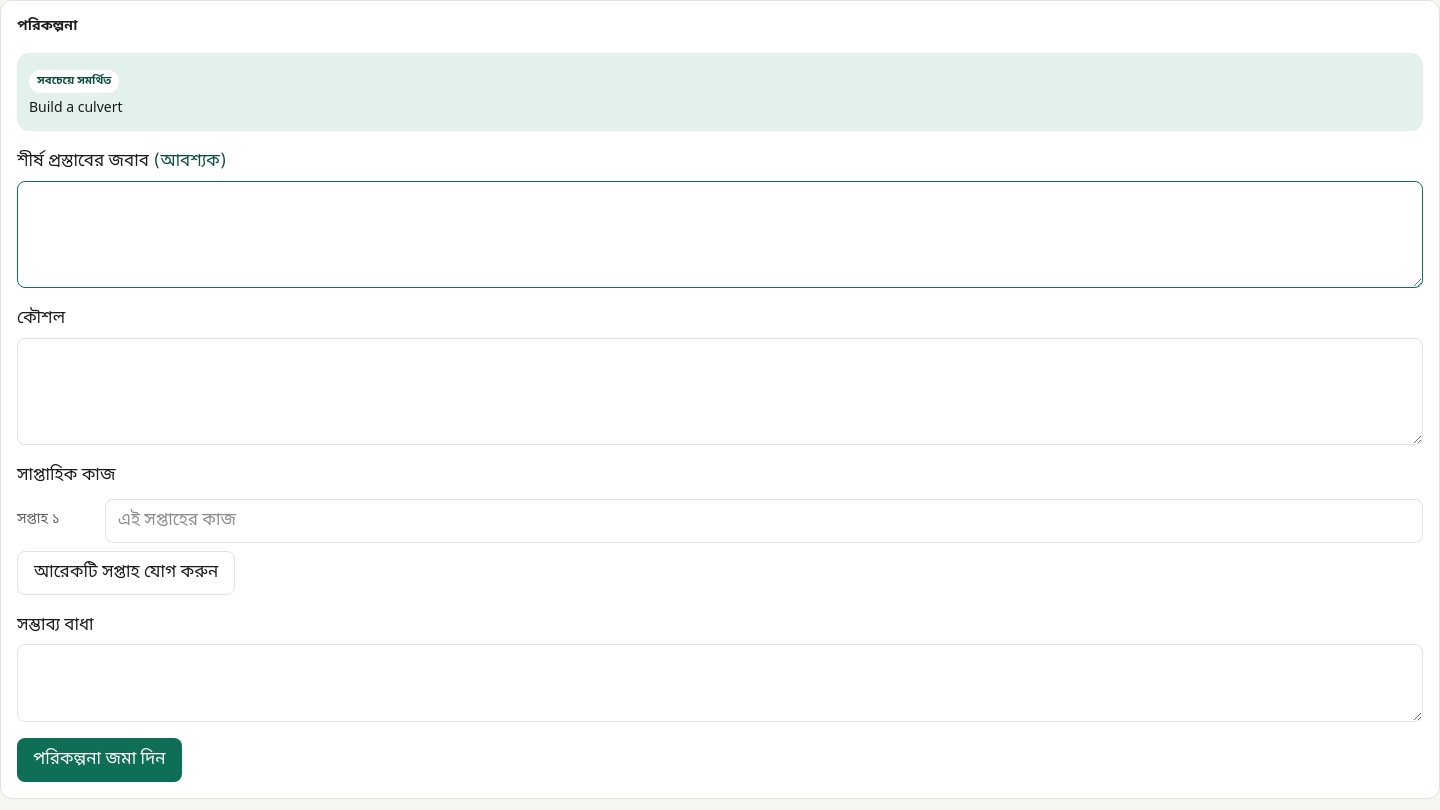
Test: PlanForm › refuses a plan with no weekly task, even when the other fields are filled
The width and height of the screenshot is (1440, 810).
Type "Adopting the culvert idea" into the text box labelled "শীর্ষ প্রস্তাবের জবাব (আবশ্যক)". click: x=720, y=234
box: [17,180,1423,288]
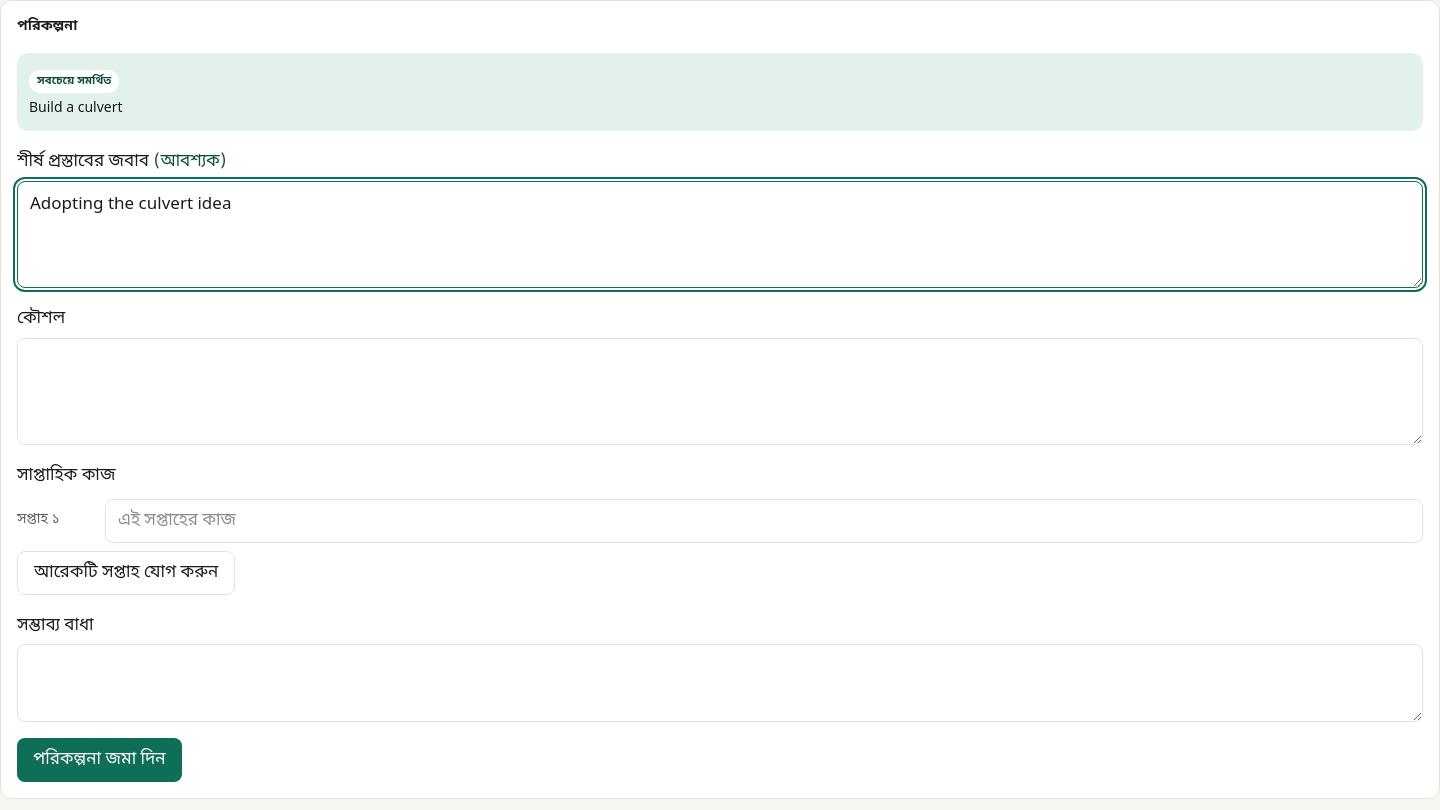
Type "Repair in two phases" into the text box labelled "কৌশল". click: x=720, y=391
box: [17,338,1423,445]
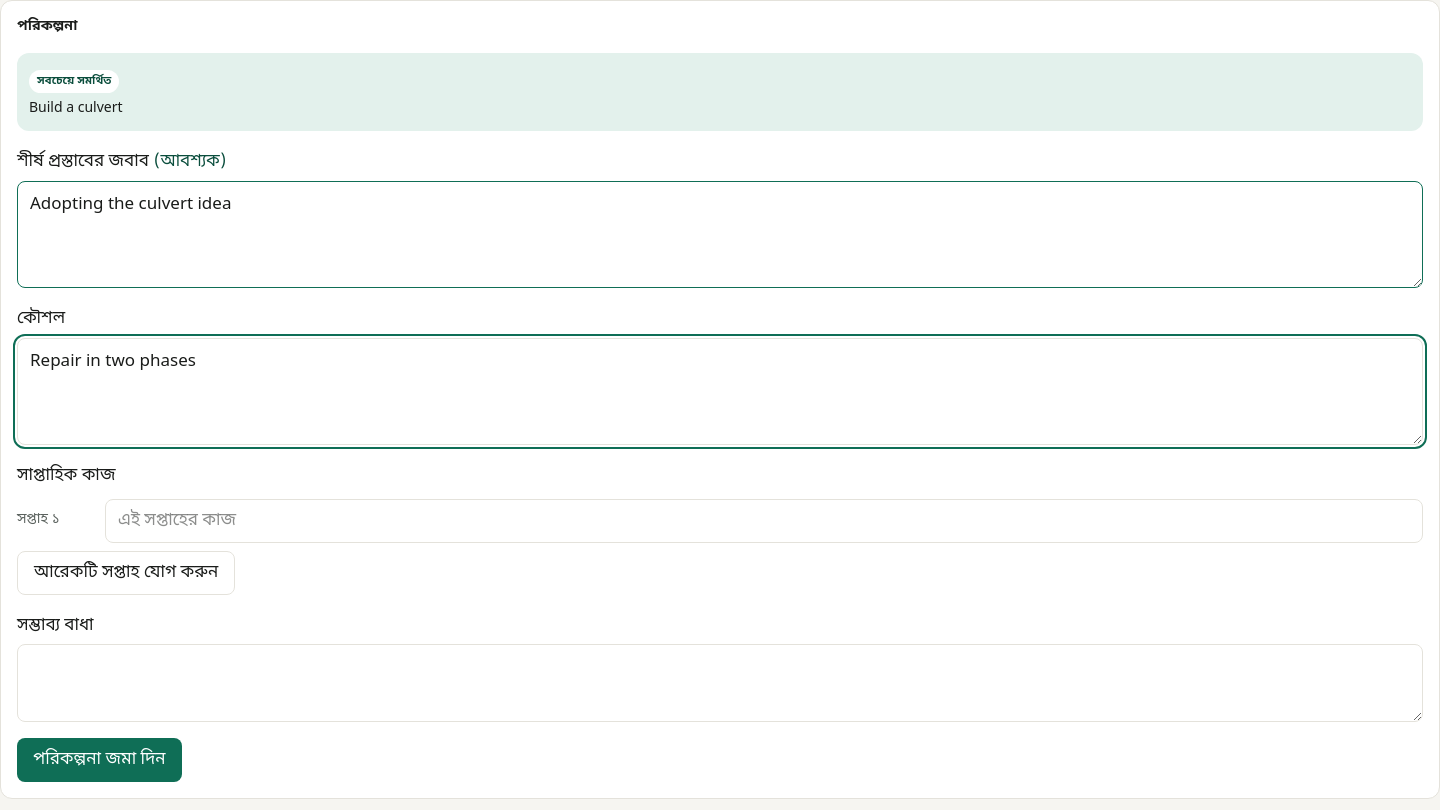
# the single week is left blank
Click the button "পরিকল্পনা জমা দিন". click: x=99, y=760
box: [17,738,182,782]
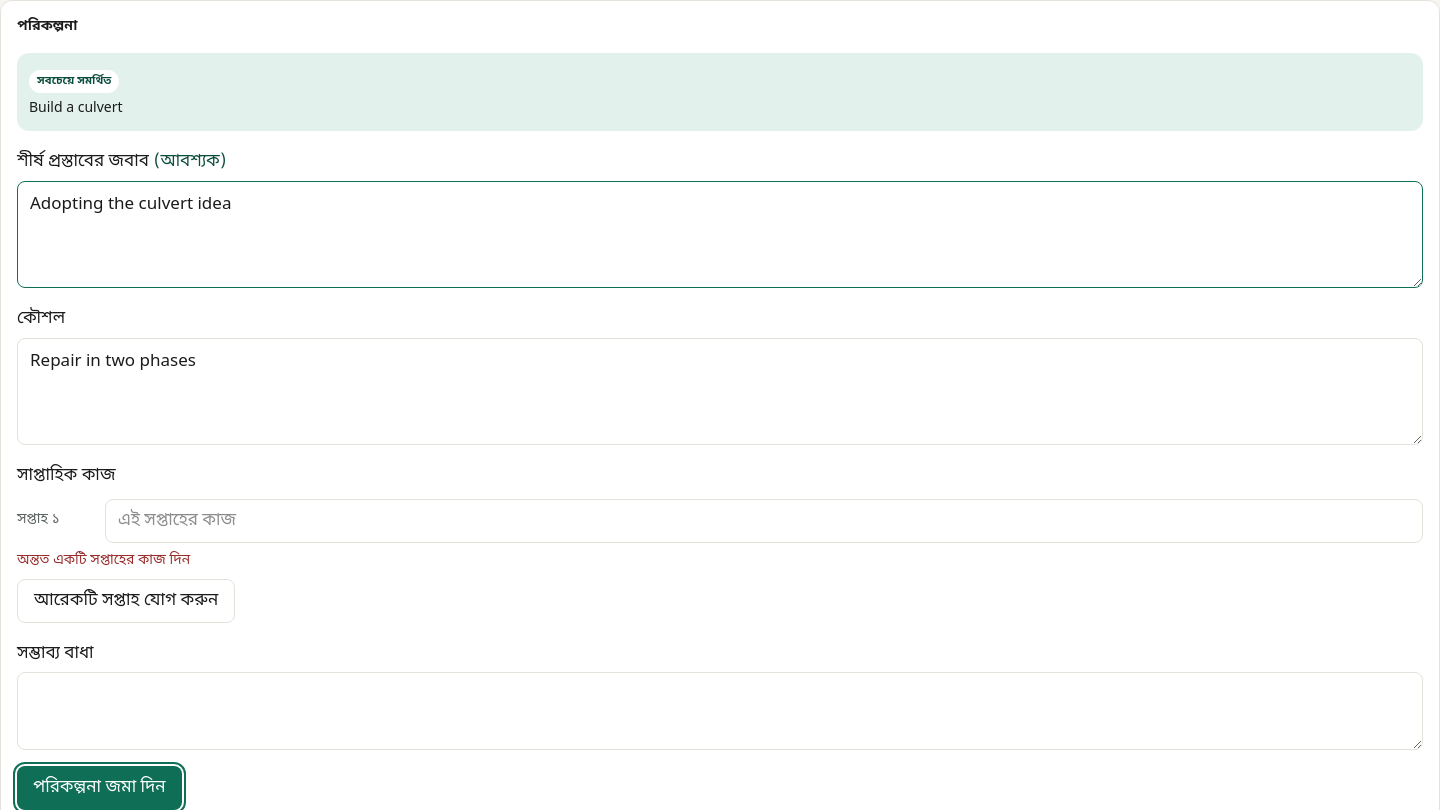
Result: the text "অন্তত একটি সপ্তাহের কাজ দিন" is shown at [17,550,190,570]
